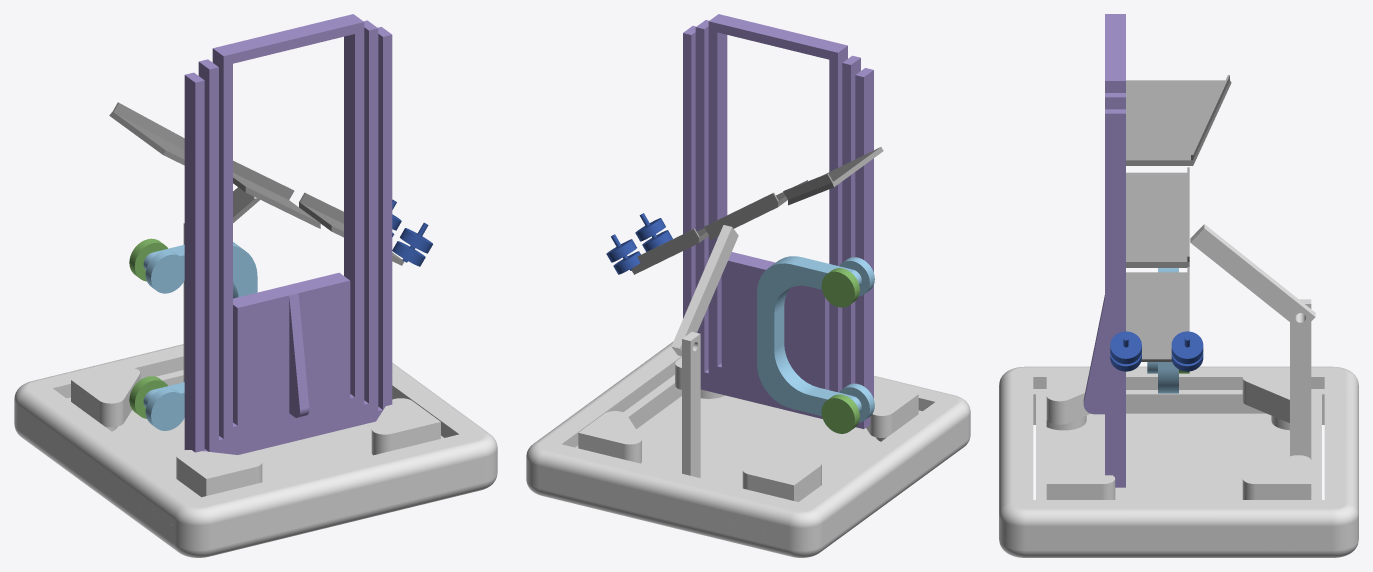
The picture shows the model from 3 angles, left to right: view 1: azimuth 30°, elevation 25°; view 2: azimuth 150°, elevation 25°; view 3: azimuth 270°, elevation 25°; orthographic projection. The views are drawn at different scales.
Parts seen in each view (by area): view 1: id72, Elevator <1>, Carriage, Part 1, Part 4, Funnel, outtake panel, Wheels, Part 3, Part 2; view 2: id72, Elevator <1>, Carriage, Part 1, Climb pt1, Climb pt2, Wheels (×2), Funnel, Part 4, outtake panel, Part 2, Part 3; view 3: id72, Elevator <1>, Funnel, Part 4, outtake panel, Climb pt2, Climb pt1, Wheels (×2), Carriage, Part 1.
Part boxes in pixels (x1,y1,x2,y2): id72: (14,344,497,557); Elevator <1>: (184,14,392,454); Carriage: (233,272,350,425); Part 1: (143,242,257,430); Part 4: (233,160,320,228); Funnel: (109,102,184,165); outtake panel: (299,192,404,265); Wheels: (392,222,432,266); Part 3: (129,376,167,418); Part 2: (129,238,167,281); id72: (526,342,970,557); Elevator <1>: (683,14,873,428); Carriage: (721,252,829,389); Part 1: (757,256,874,422); Climb pt1: (682,332,700,477); Climb pt2: (671,225,738,356); Wheels (×2): (606,213,672,274); Funnel: (783,147,883,205); Part 4: (704,180,807,240); outtake panel: (632,228,708,274); Part 2: (821,268,859,307); Part 3: (821,394,859,433); id72: (999,366,1358,557); Elevator <1>: (1105,14,1125,487); Funnel: (1126,75,1231,165); Part 4: (1126,167,1189,267); outtake panel: (1126,267,1189,361); Climb pt2: (1190,224,1315,331); Climb pt1: (1290,299,1311,459); Wheels (×2): (1110,331,1203,371); Carriage: (1083,295,1104,414); Part 1: (1147,268,1178,393).
Size of the model in its own units: 0.8636 by 1.16 by 0.8636.
